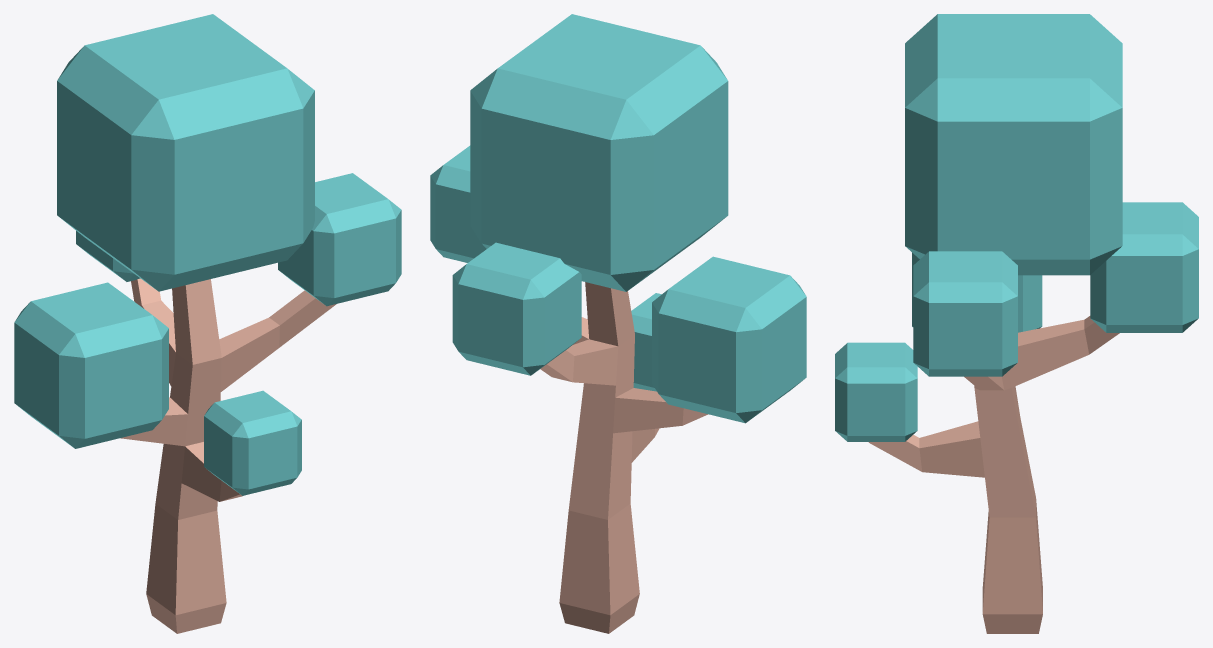
The picture shows the model from 3 angles, left to right: view 1: azimuth 30°, elevation 25°; view 2: azimuth 150°, elevation 25°; view 3: azimuth 270°, elevation 25°; orthographic projection. The views are drawn at different scales.
Visible parts, largest first — view 1: tree_detailed_dark; view 2: tree_detailed_dark; view 3: tree_detailed_dark.
Part boxes in pixels (left/top/right/bottom): tree_detailed_dark: left=14, top=14, right=401, bottom=633; tree_detailed_dark: left=430, top=14, right=806, bottom=633; tree_detailed_dark: left=835, top=14, right=1198, bottom=633.
Bounding box in the file's own units: 0.8471 × 1.33 × 0.7616.
